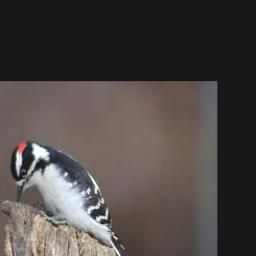Woodpecker: (8, 138, 136, 256)
